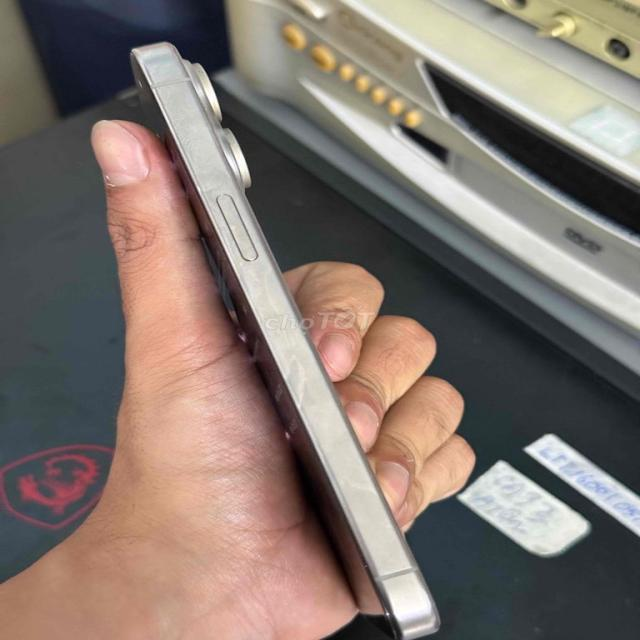gen_15: (125, 38, 447, 640)
